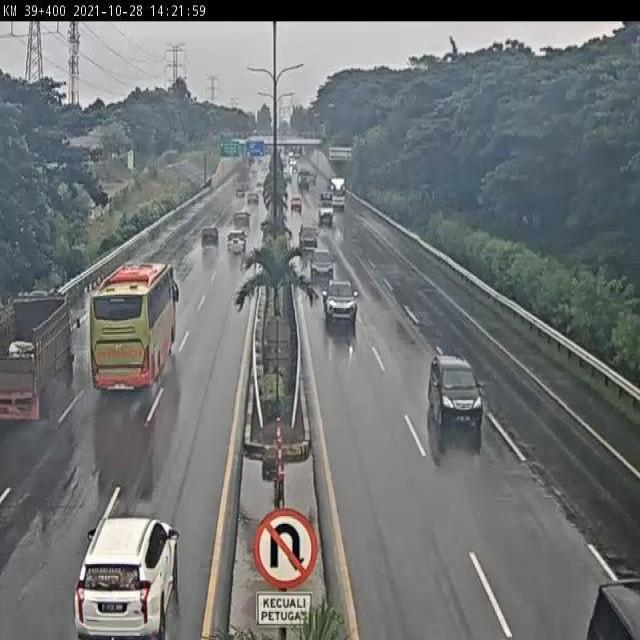big bus: (91, 261, 179, 395)
car: (74, 516, 180, 640), (427, 350, 485, 430), (321, 277, 360, 328), (309, 245, 336, 283), (297, 220, 321, 253), (225, 228, 249, 257), (199, 223, 220, 252)
truck-l-: (0, 292, 78, 420)
